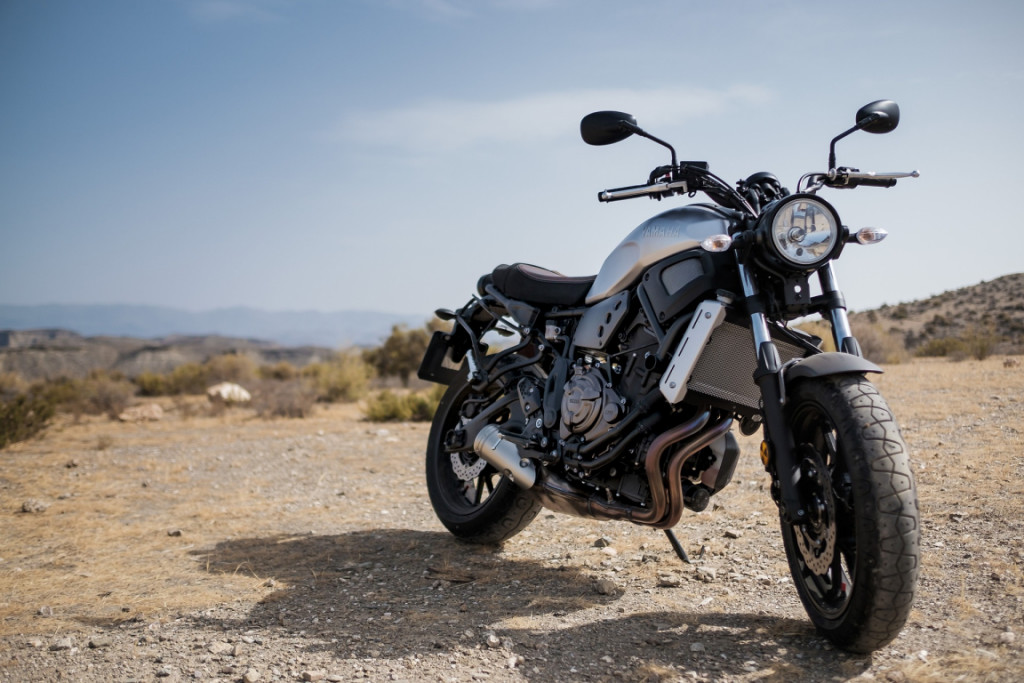bike: (433, 97, 925, 655)
